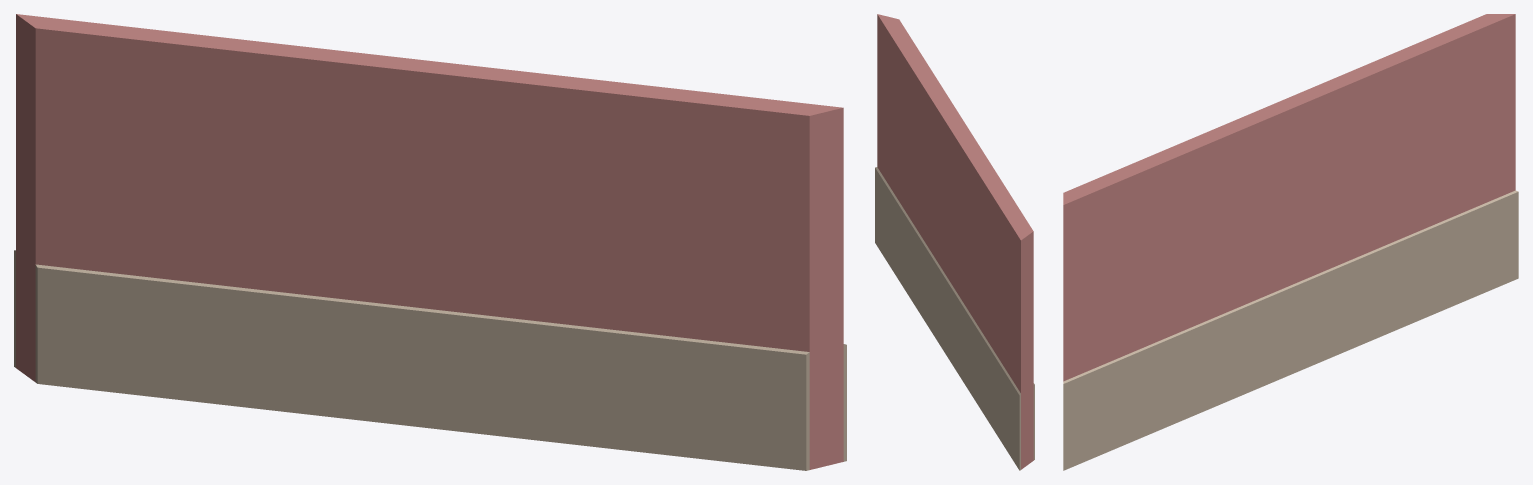
The model's file is wall_6x6_base_diagonal.fbx.
3 views of the same model, side by side, from view 1: azimuth 30°, elevation 25°; view 2: azimuth 150°, elevation 25°; view 3: azimuth 270°, elevation 25° (orthographic). The views are drawn at different scales.
Visible parts, largest first — view 1: Cube; view 2: Cube; view 3: Cube.
Boxes of the visible parts, x1,y1,x2,y2 form: Cube: (14,14,846,470); Cube: (875,14,1034,470); Cube: (1063,14,1518,470).
Bounding box in the file's own units: 624 × 400 × 624.
